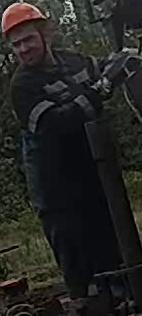gloves: (90, 44, 140, 101)
helmet: (0, 1, 47, 38)
vest: (7, 47, 104, 217)
